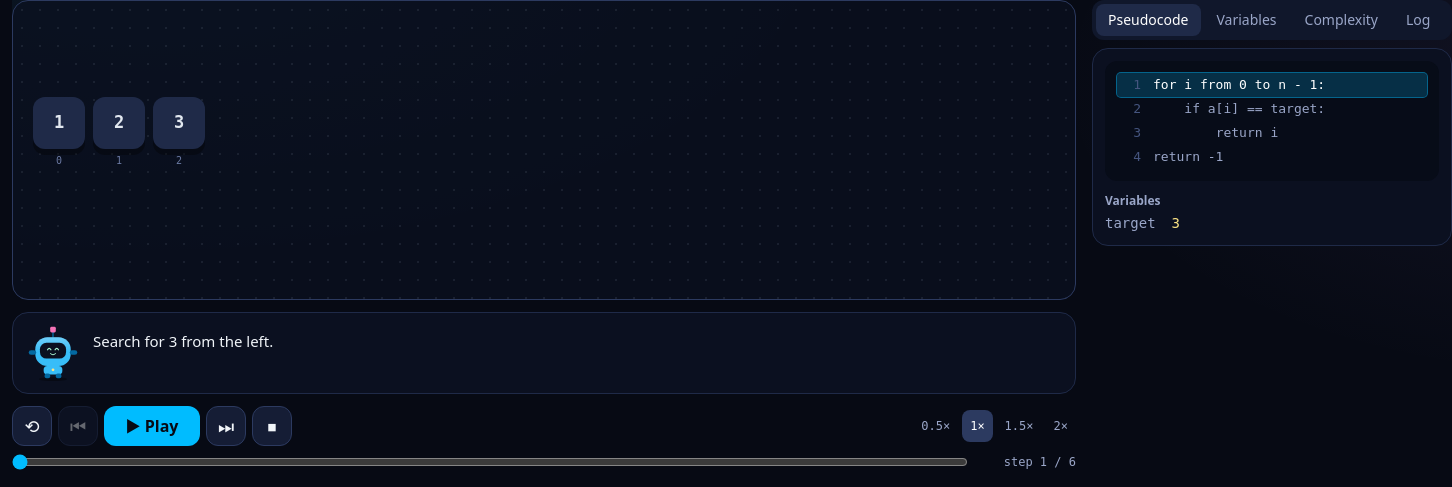
Player › play button toggles to pause and speed buttons are pressed-state toggles
Later steps or results of the test are not shown.
Click the button "▶ Play" at (152, 426), box [104, 406, 200, 446]
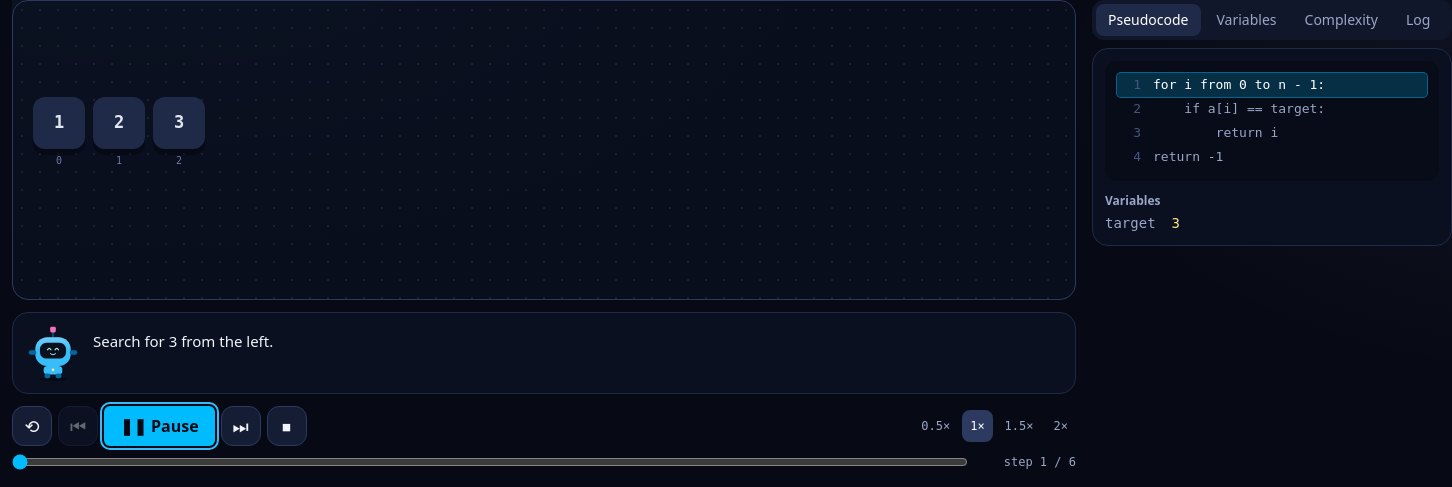
Expected: the button "❚❚ Pause" is shown, [104, 406, 215, 446]
Click the button "2×" at (1061, 426), box [1046, 410, 1076, 442]
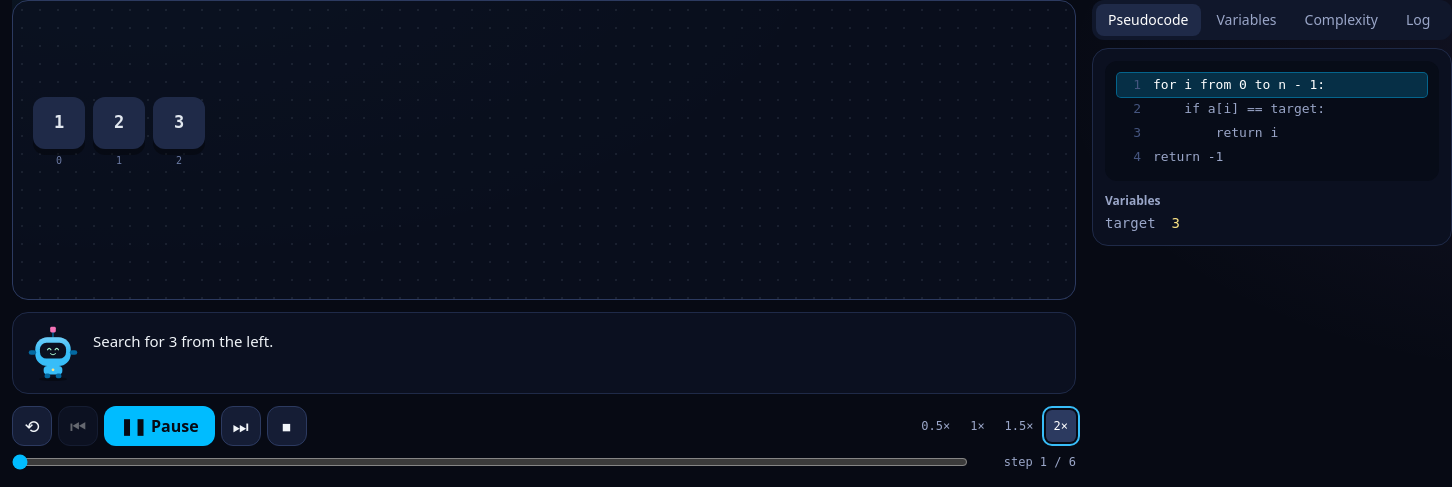
Expected: the button "2×" is pressed, [1046, 410, 1076, 442]
